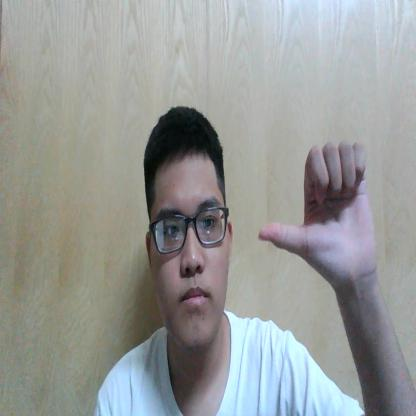right: (255, 140, 376, 284)
